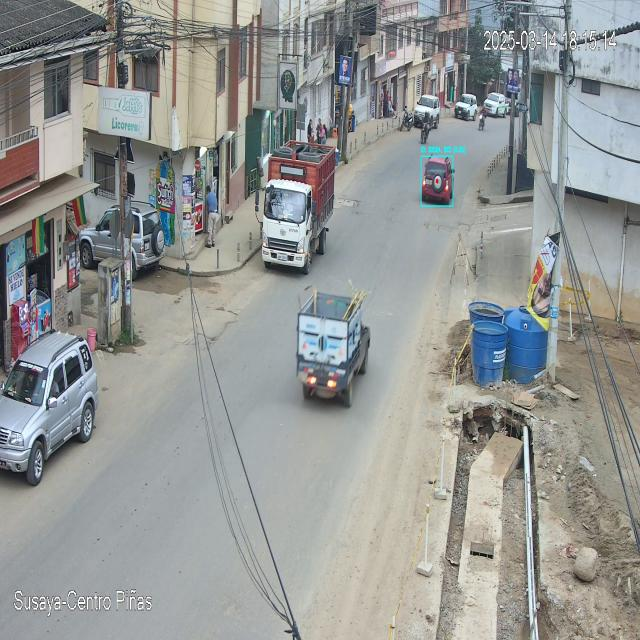CMT: (296, 284, 372, 410)
TRUCK: (262, 140, 336, 274)
